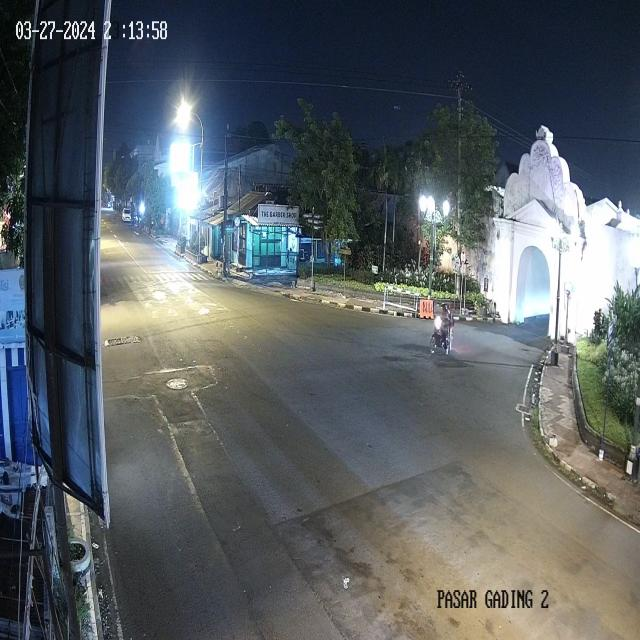car: (120, 206, 134, 223)
motorcycle: (428, 302, 454, 357)
